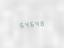eight: (38, 19, 42, 27)
four: (23, 20, 27, 28), (33, 19, 37, 27)
six: (18, 21, 22, 28), (28, 20, 32, 27)
